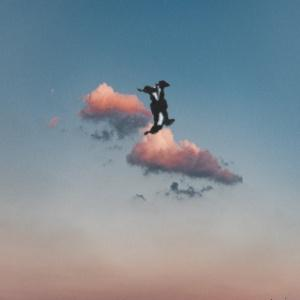drone: (80, 27, 238, 185)
